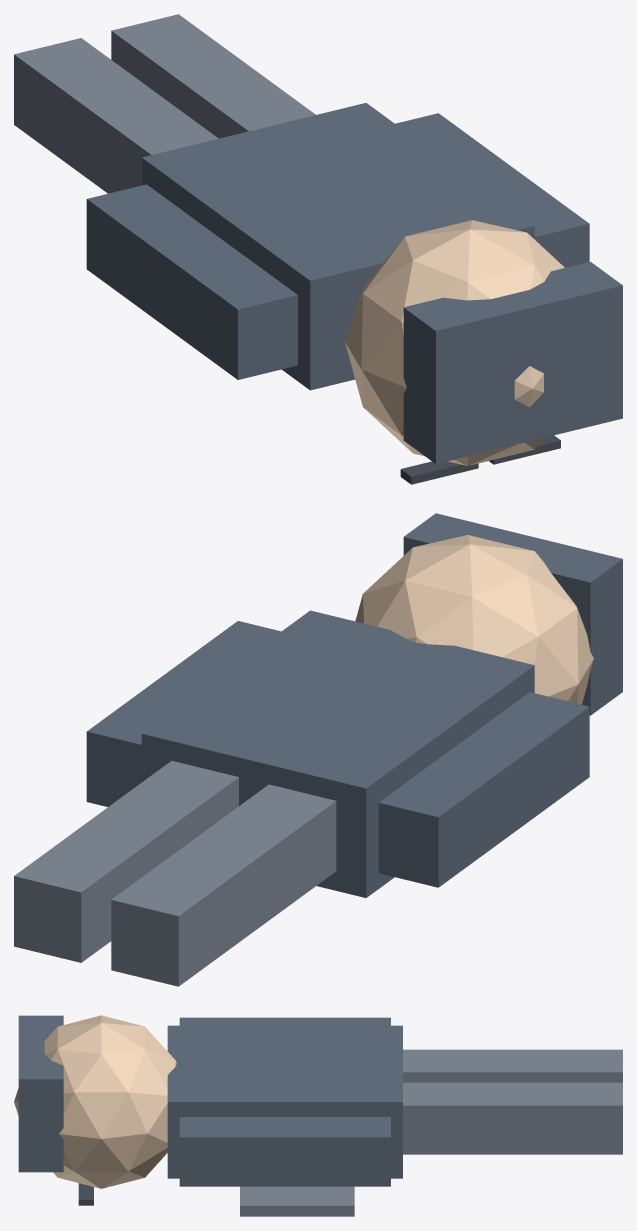
File: legal.glb
The picture shows the model from 3 angles, top to bottom: view 1: azimuth 30°, elevation 25°; view 2: azimuth 150°, elevation 25°; view 3: azimuth 270°, elevation 25°; orthographic projection. The views are drawn at different scales.
Visible parts, largest first — view 1: torso, hair, arm_l, head, leg_l, leg_r, arm_r, glasses_l; view 2: torso, leg_l, arm_l, head, leg_r, hair, arm_r; view 3: torso, head, leg_r, arm_r, leg_l, hair, tablet, arm_l, glasses_r.
Part boxes in pixels (x1,y1,x2,y2): torso: [141, 103, 534, 390]; hair: [403, 261, 622, 463]; arm_l: [86, 184, 297, 379]; head: [345, 220, 564, 465]; leg_l: [14, 38, 218, 193]; leg_r: [111, 14, 315, 138]; arm_r: [395, 113, 589, 267]; glasses_l: [400, 461, 478, 484]; torso: [141, 610, 534, 897]; leg_l: [111, 784, 336, 986]; arm_l: [378, 692, 589, 887]; head: [355, 535, 593, 704]; leg_r: [14, 760, 238, 962]; hair: [403, 513, 622, 715]; arm_r: [86, 621, 281, 806]; torso: [167, 1025, 402, 1178]; head: [14, 1015, 176, 1188]; leg_r: [403, 1082, 622, 1154]; arm_r: [179, 1117, 390, 1186]; leg_l: [403, 1049, 622, 1082]; hair: [18, 1015, 63, 1172]; tablet: [240, 1186, 354, 1216]; arm_l: [179, 1017, 390, 1025]; glasses_r: [78, 1183, 93, 1205].
Bounding box in the file's own units: 0.94 × 0.58 × 2.02.
